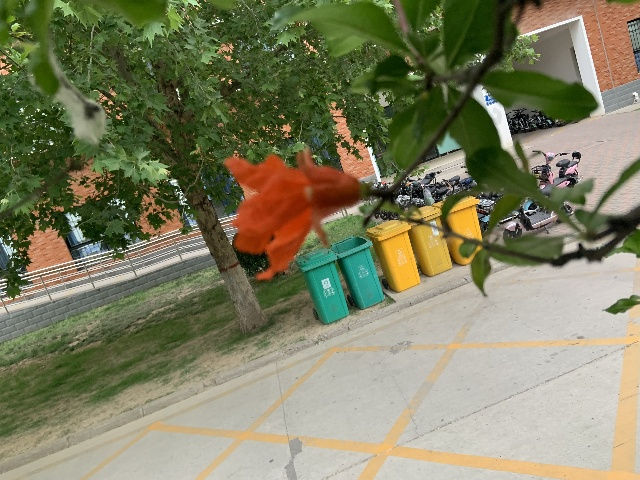flower: (224, 146, 361, 280)
